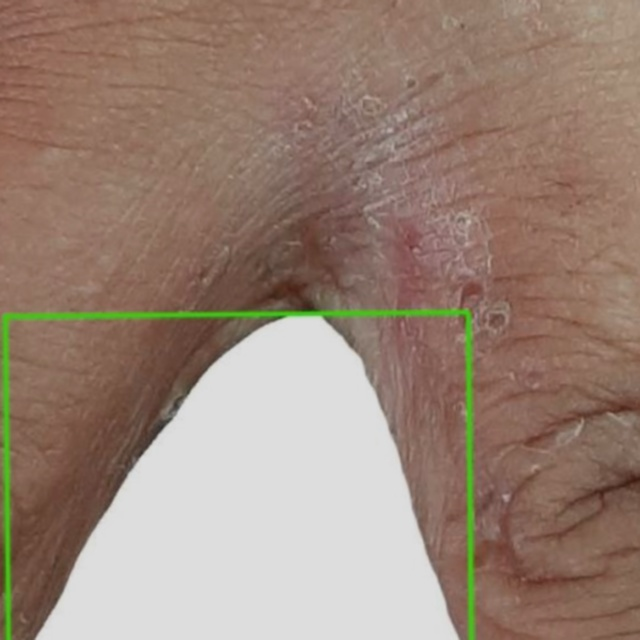Scabies: (5, 312, 472, 639)
